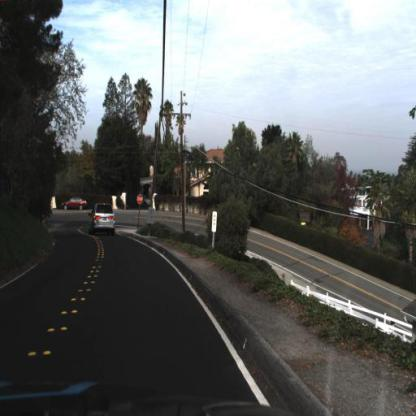car: (87, 198, 122, 241), (88, 199, 117, 237), (62, 193, 91, 212)
